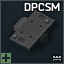DeltaPoint Cross Slot Mount base: (0, 0, 64, 64)
